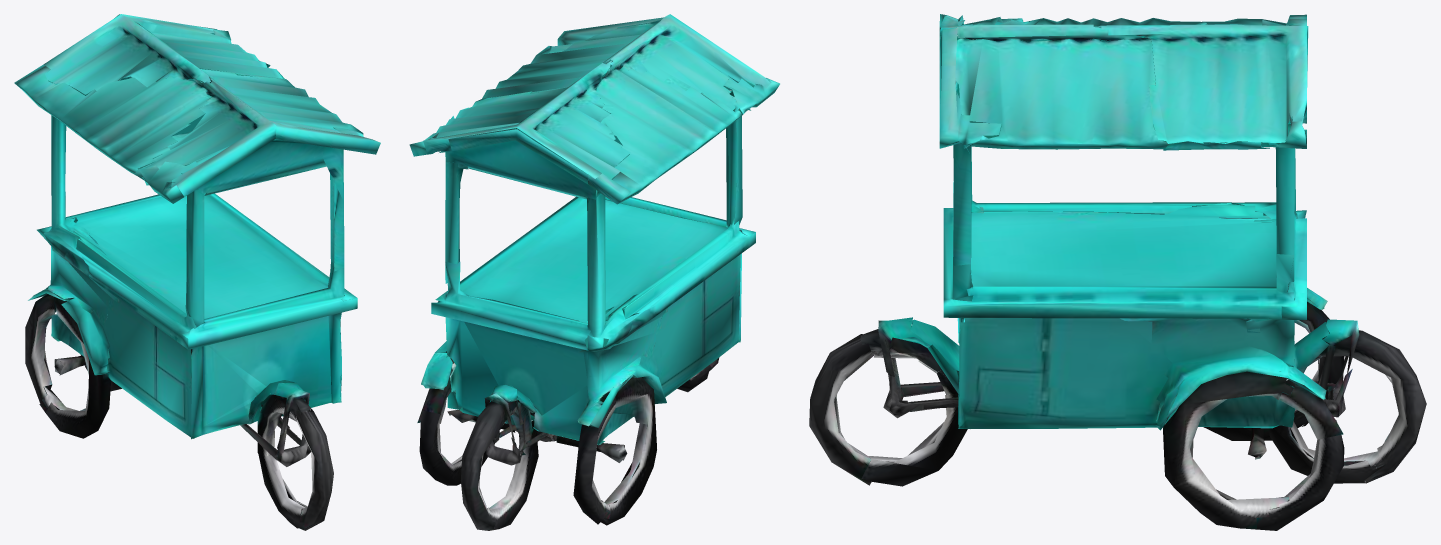
Rendered from prop_gerobak.glb.
3 renders of one model, left to right at view 1: azimuth 30°, elevation 25°; view 2: azimuth 150°, elevation 25°; view 3: azimuth 270°, elevation 25°, orthographic. The views are drawn at different scales.
Visible parts, largest first — view 1: prop_gerobak; view 2: prop_gerobak; view 3: prop_gerobak.
Part boxes in pixels (box(x1,y1,x2,y2)): prop_gerobak: box(14, 14, 380, 530); prop_gerobak: box(409, 14, 779, 530); prop_gerobak: box(809, 14, 1426, 530).
Bounding box in the file's own units: 0.9095 × 1.57 × 1.9.
Materials: 1 (1 with a texture image).
